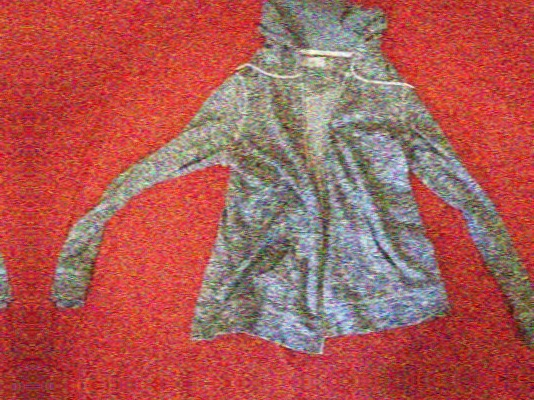Hoodie: (63, 0, 534, 375), (70, 389, 534, 400), (0, 399, 2, 400)
